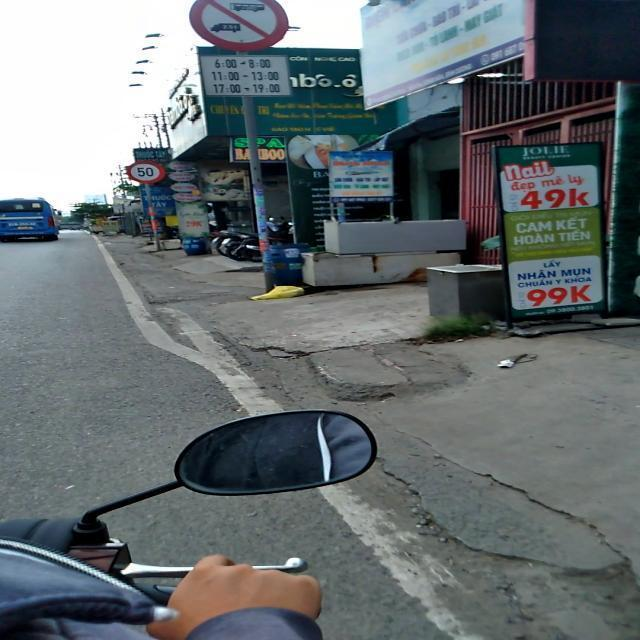127-toc-do-toi-da-50: (125, 160, 166, 182)
